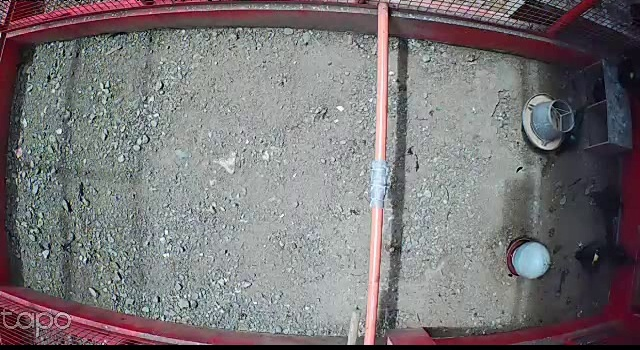Chicken: (584, 179, 626, 246), (553, 106, 589, 163), (610, 47, 640, 115), (571, 236, 611, 276)
Saddle_Color_Yellow: (592, 252, 600, 265)
